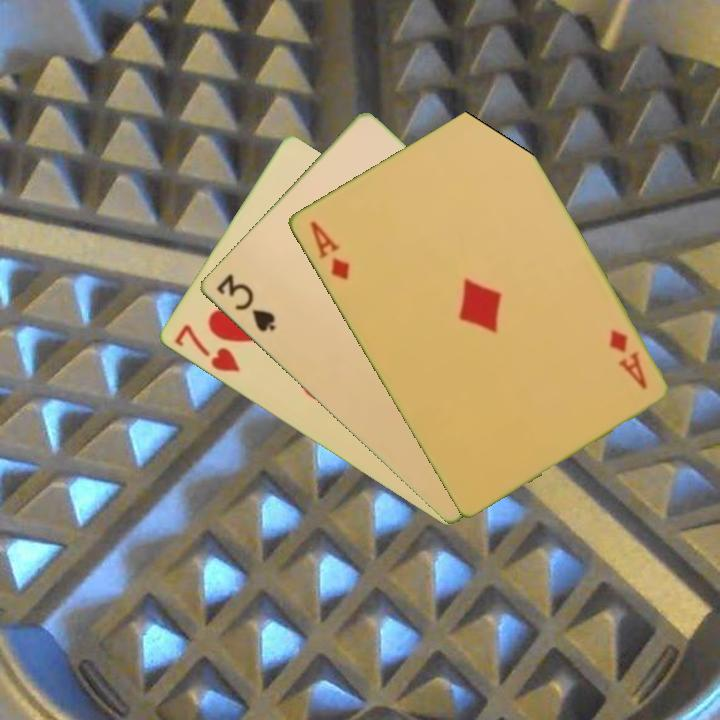3s: (212, 270, 278, 335)
7h: (170, 320, 242, 375)
Ad: (305, 217, 353, 283), (605, 325, 650, 392)
